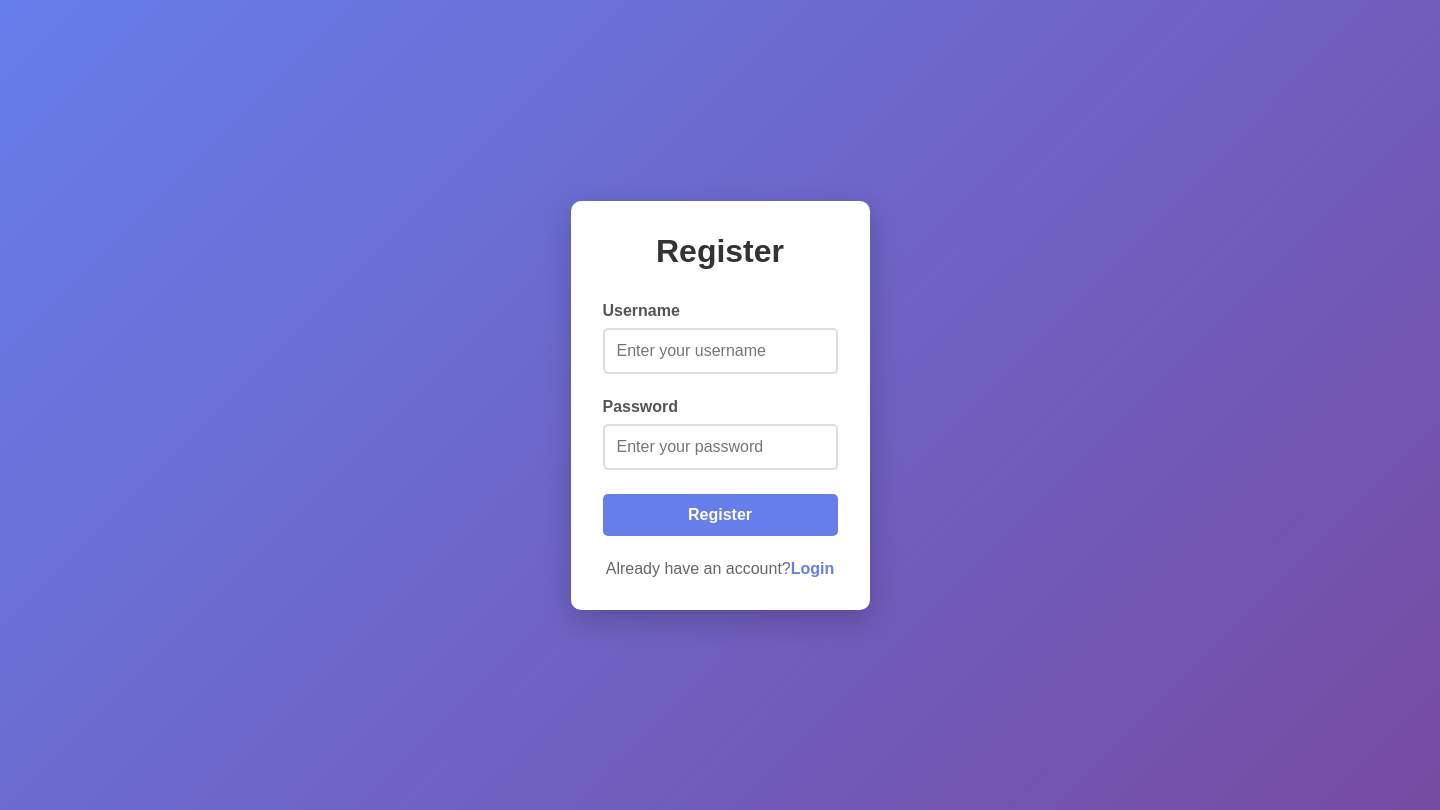
Register Component › mostra erro de conexão
In the field labelled "Username": (720, 350) [602,328,838,374], type "newuser"
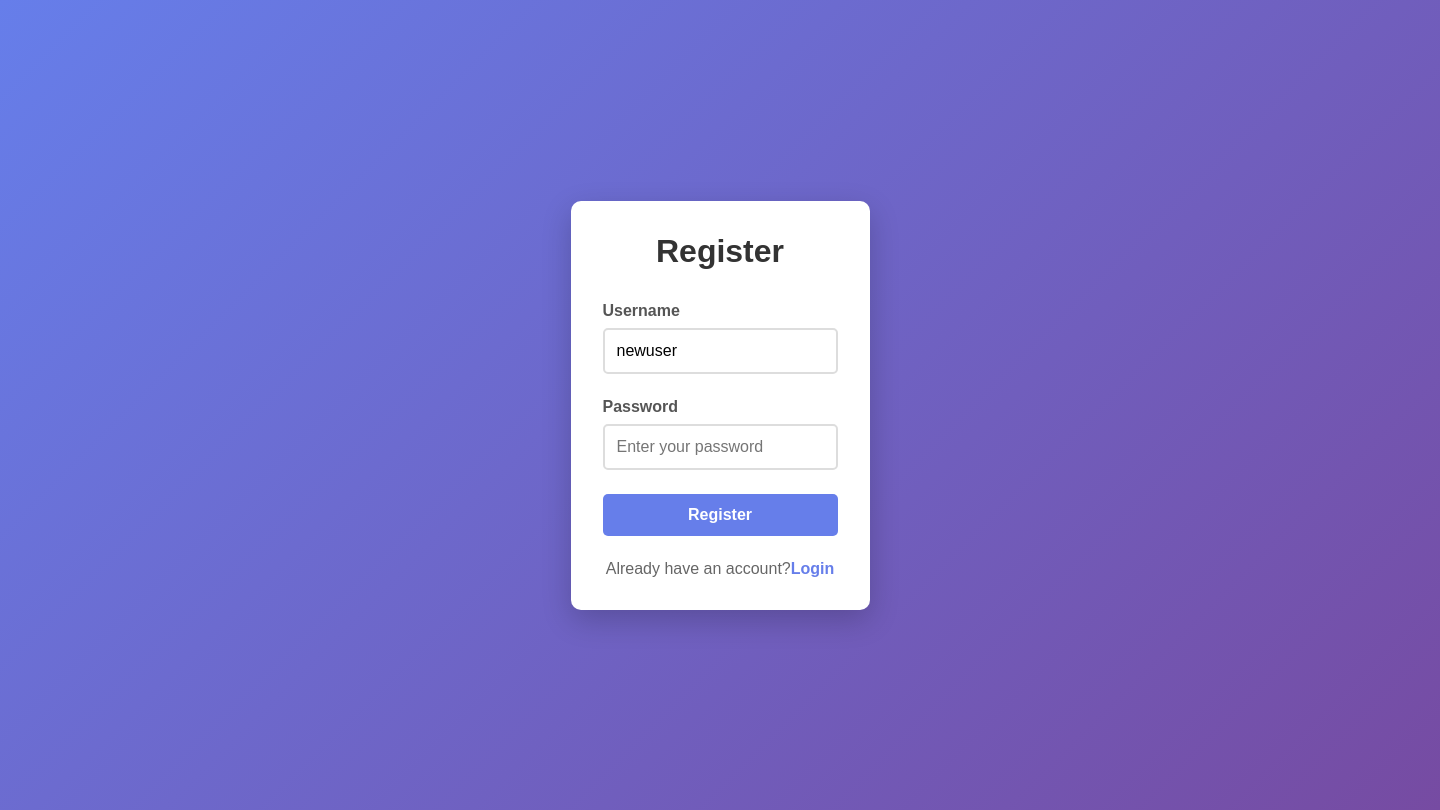
In the password field labelled "Password": (720, 446) [602,424,838,470], type "password123"
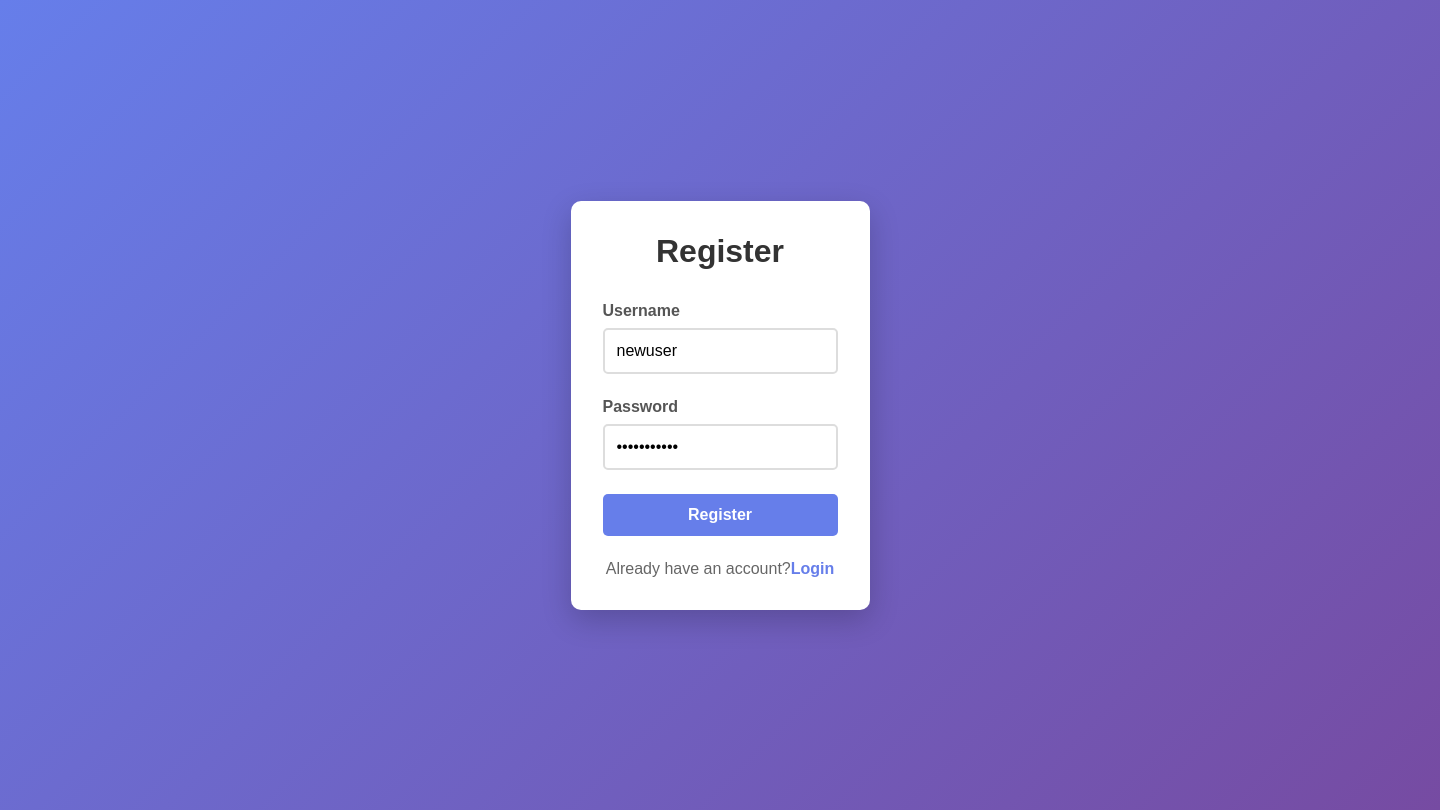
Click the button "Register": click(720, 514) [602,494,838,536]
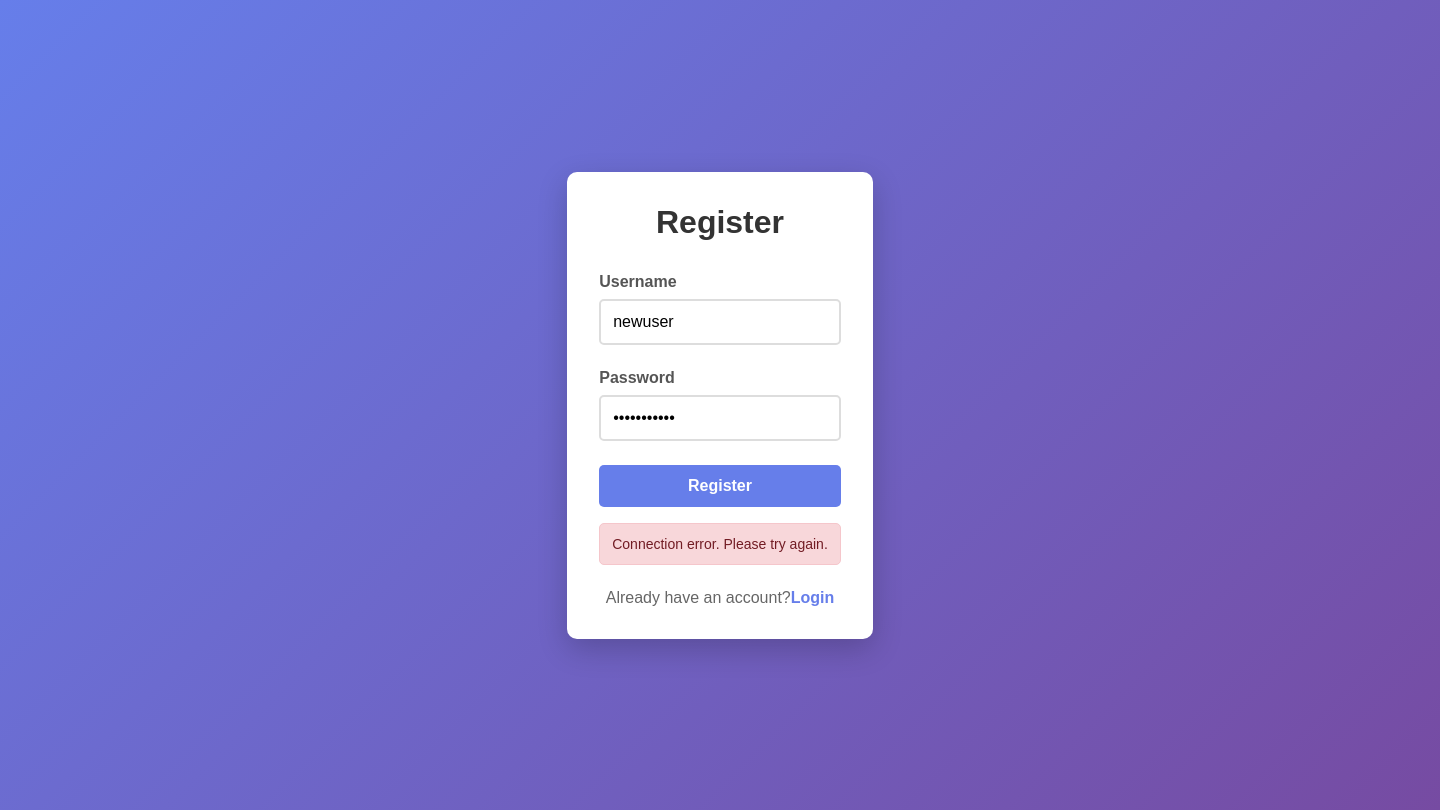
Expected: the text "Connection error. Please try again." is shown, [599,522,841,564]
